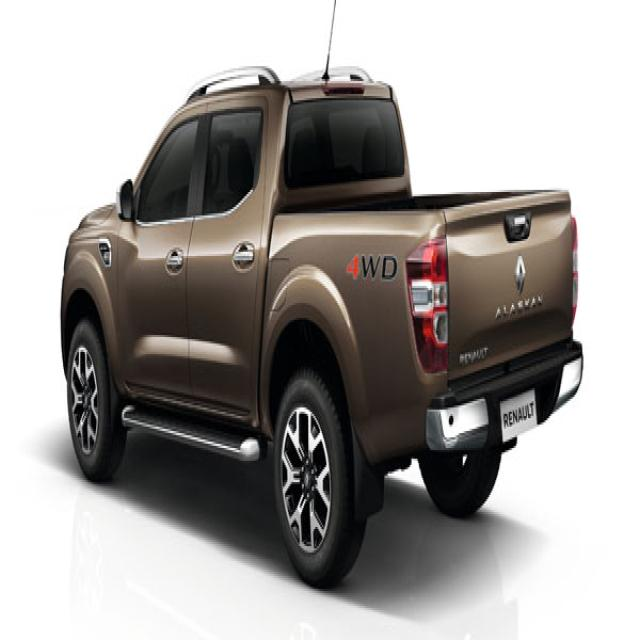Pickup Trucks: (61, 59, 583, 586)
